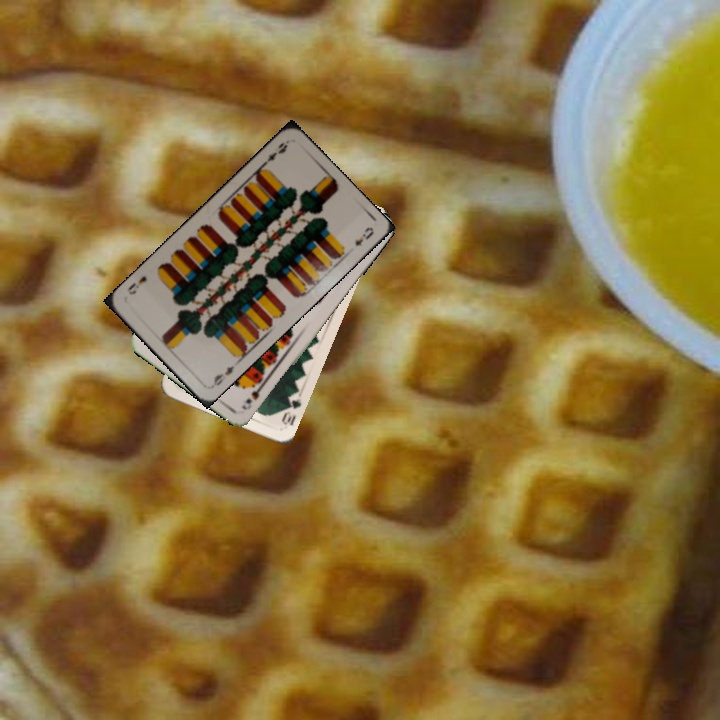E9: (257, 138, 290, 169), (207, 361, 237, 390)
G10: (277, 389, 304, 428)
S9: (242, 376, 268, 406)
